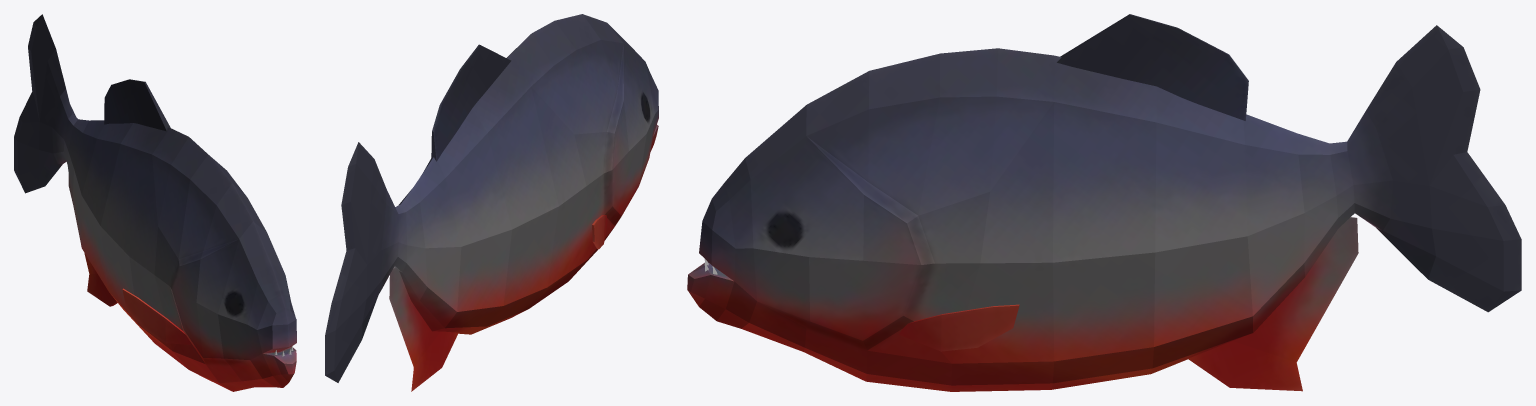
File: piranha.glb
3 renders of one model, left to right at view 1: azimuth 30°, elevation 25°; view 2: azimuth 150°, elevation 25°; view 3: azimuth 270°, elevation 25°, orthographic. The views are drawn at different scales.
Visible parts, largest first — view 1: Piranha_mesh; view 2: Piranha_mesh; view 3: Piranha_mesh.
Boxes of the visible parts, x1=… form: Piranha_mesh: x1=14, y1=14, x2=296, y2=391; Piranha_mesh: x1=325, y1=14, x2=658, y2=391; Piranha_mesh: x1=687, y1=14, x2=1521, y2=391.
Size of the model in its own units: 1.81 by 3.66 by 7.33.
1 material, 1 textured.
